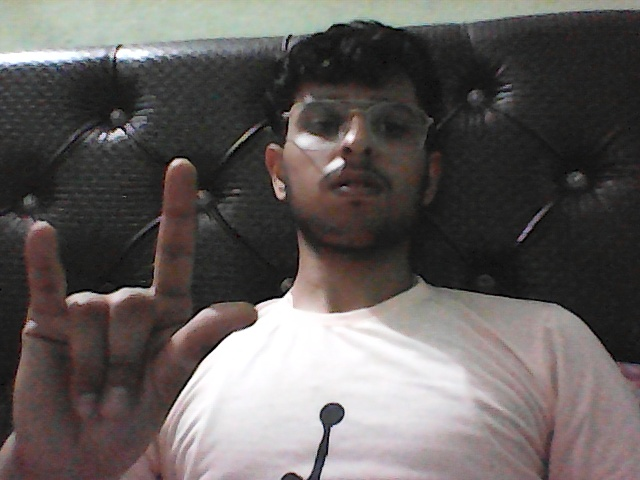iloveyou: (5, 150, 276, 480)
